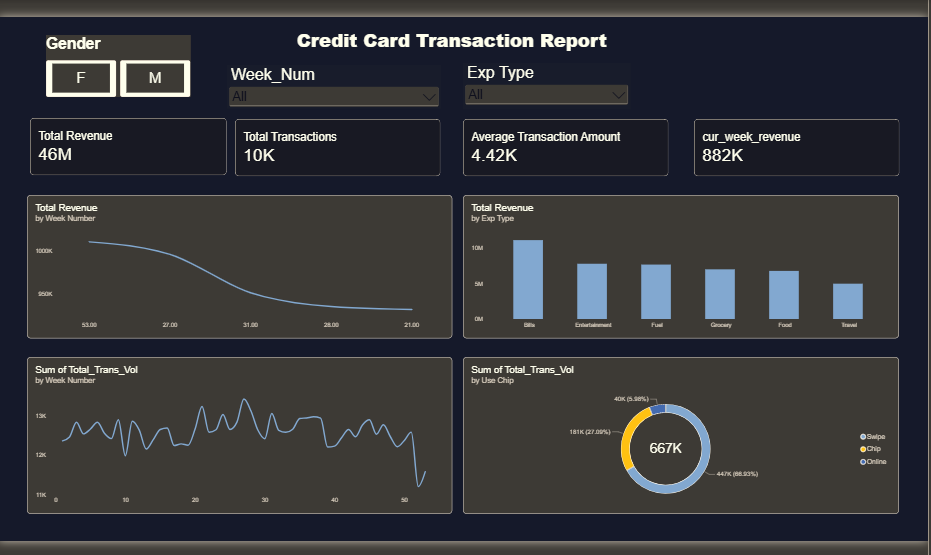

Layout of this report page (visuals, bound fields, positions):
{"tool":"powerbi","page":{"name":"Credit Card Transaction Report","canvas":[1920,1080],"ordinal":2},"visuals":[{"type":"textbox","box":[60,20,1754,74],"z":0},{"type":"cardVisual","fields":{"Data":["Measures (3).Total Revenue"]},"box":[36,210,406,118],"z":1000},{"type":"cardVisual","fields":{"Data":["Measures (3).Total Transactions"]},"box":[490,210,424,118],"z":2000},{"type":"cardVisual","fields":{"Data":["Measures (3).Average Transaction Amount"]},"box":[938,210,424,118],"z":3000},{"type":"cardVisual","fields":{"Data":["Measures (3).cur_week_revenue"]},"box":[1390,210,424,118],"z":4000},{"type":"lineChart","fields":{"Y":["Measures (3).Total Revenue"],"Category":["CreditCard.Week Number"]},"box":[60,368,878,296],"z":5000},{"type":"clusteredColumnChart","fields":{"Category":["CreditCard.Exp Type"],"Y":["Measures (3).Total Revenue"]},"box":[960,368,900,296],"z":6000},{"type":"lineChart","fields":{"Category":["CreditCard.Week Number"],"Y":["Sum(CreditCard.Total_Trans_Vol)"]},"box":[60,702,878,324],"z":7000},{"type":"donutChart","fields":{"Category":["CreditCard.Use Chip"],"Y":["Sum(CreditCard.Total_Trans_Vol)"]},"box":[960,702,900,324],"z":8000},{"type":"advancedSlicerVisual","fields":{"Values":["customer.Gender"]},"box":[100,100,300,90],"z":9000},{"type":"slicer","fields":{"Values":["CreditCard.Week_Num"]},"box":[472,100,442,90],"z":9001},{"type":"slicer","fields":{"Values":["CreditCard.Exp Type"]},"box":[960,94,346,96],"z":9002}]}

Visuals, with their boxes on the page's 1920x1080 design canvas (x1, y1, x2, y2). These are canvas units, not pixel positions in the 931x555 screenshot, which may show the page scaled, cropped or inside an application window:
textbox: 60:20:1814:94
cardVisual - Measures (3).Total Revenue: 36:210:442:328
cardVisual - Measures (3).Total Transactions: 490:210:914:328
cardVisual - Measures (3).Average Transaction Amount: 938:210:1362:328
cardVisual - Measures (3).cur_week_revenue: 1390:210:1814:328
lineChart - Measures (3).Total Revenue x CreditCard.Week Number: 60:368:938:664
clusteredColumnChart - CreditCard.Exp Type x Measures (3).Total Revenue: 960:368:1860:664
lineChart - CreditCard.Week Number x Sum(CreditCard.Total_Trans_Vol): 60:702:938:1026
donutChart - CreditCard.Use Chip x Sum(CreditCard.Total_Trans_Vol): 960:702:1860:1026
advancedSlicerVisual - customer.Gender: 100:100:400:190
slicer - CreditCard.Week_Num: 472:100:914:190
slicer - CreditCard.Exp Type: 960:94:1306:190
